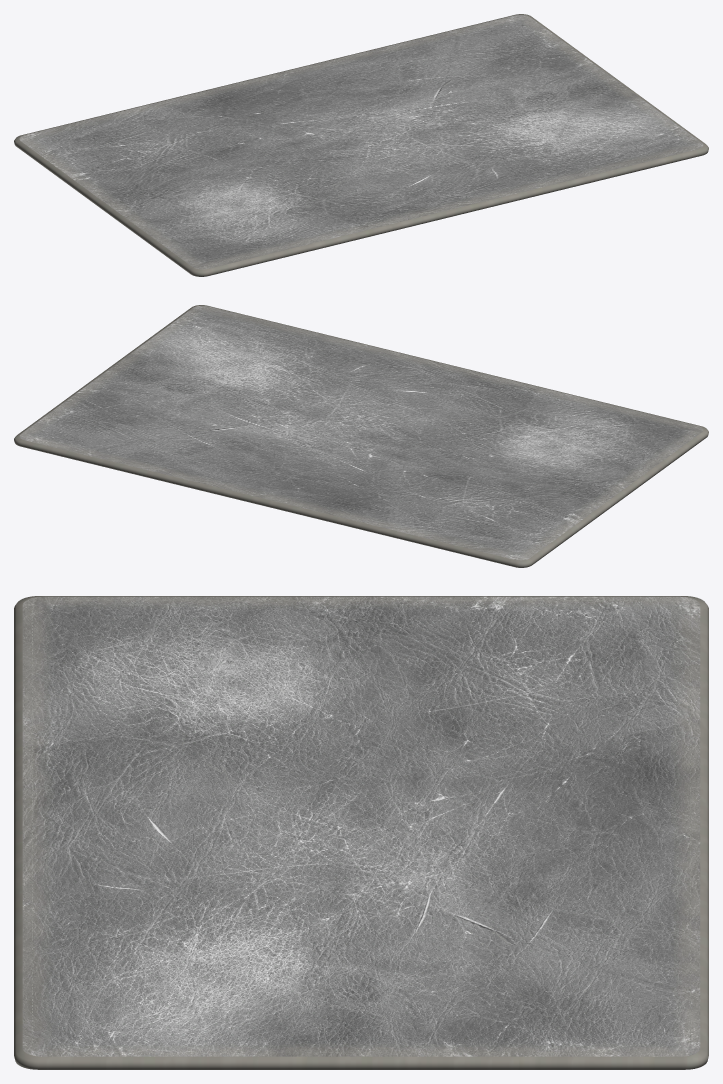
File: desk-mat.glb
3 views of the same model, one above another, from view 1: azimuth 30°, elevation 25°; view 2: azimuth 150°, elevation 25°; view 3: azimuth 270°, elevation 25° (orthographic). The views are drawn at different scales.
Parts seen in each view (by area): view 1: GEO-leather-Mat_Leather, GEO-edge-Mat_Edge, GEO-stitch-Mat_Stitch; view 2: GEO-leather-Mat_Leather, GEO-edge-Mat_Edge, GEO-stitch-Mat_Stitch; view 3: GEO-leather-Mat_Leather, GEO-edge-Mat_Edge, GEO-stitch-Mat_Stitch.
Boxes of the visible parts, left/top/right/bottom form: GEO-leather-Mat_Leather: left=19, top=15, right=703, bottom=269; GEO-edge-Mat_Edge: left=14, top=14, right=708, bottom=276; GEO-stitch-Mat_Stitch: left=27, top=17, right=695, bottom=265; GEO-leather-Mat_Leather: left=19, top=306, right=703, bottom=560; GEO-edge-Mat_Edge: left=14, top=305, right=708, bottom=567; GEO-stitch-Mat_Stitch: left=27, top=308, right=695, bottom=556; GEO-leather-Mat_Leather: left=22, top=596, right=700, bottom=1056; GEO-edge-Mat_Edge: left=14, top=596, right=708, bottom=1069; GEO-stitch-Mat_Stitch: left=32, top=600, right=690, bottom=1052.
Size of the model in its own units: 1.05 by 0.014 by 0.66.
Materials: 3 (3 with a texture image).
